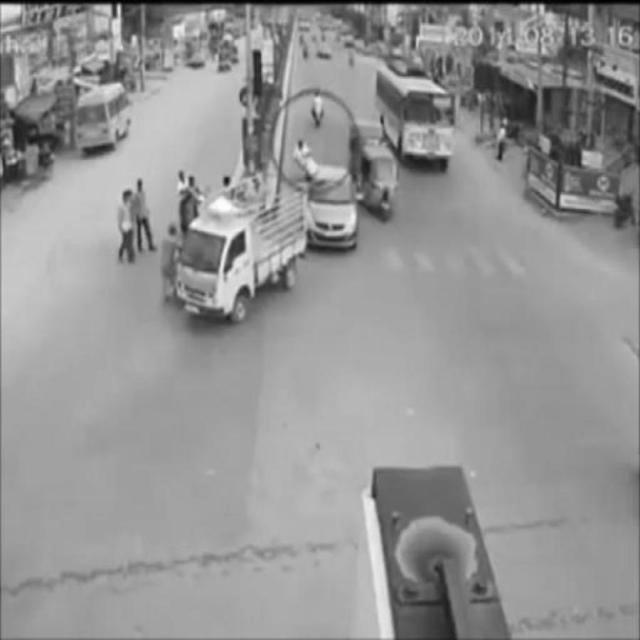accident: (295, 140, 361, 250)
vehicle: (174, 177, 305, 325), (376, 68, 452, 164), (73, 82, 129, 158), (351, 134, 397, 222)
